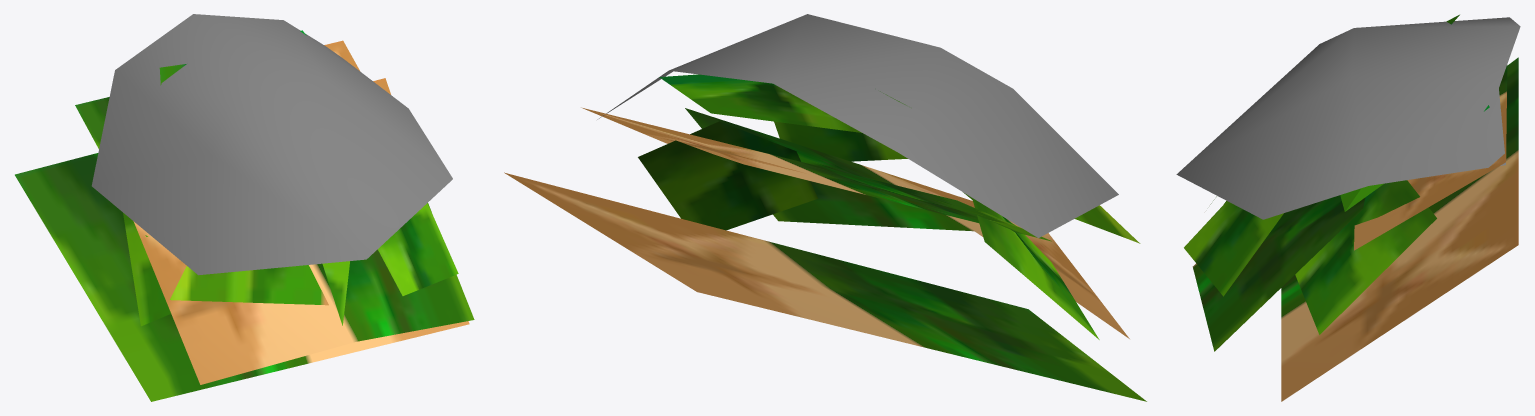
The model's file is fg_bushE_2_s.dae.
The picture shows the model from 3 angles, left to right: view 1: azimuth 30°, elevation 25°; view 2: azimuth 150°, elevation 25°; view 3: azimuth 270°, elevation 25°; orthographic projection. The views are drawn at different scales.
Visible parts, largest first — view 1: fg_bushE_2_s; view 2: fg_bushE_2_s; view 3: fg_bushE_2_s.
Part boxes in pixels (x1,y1,x2,y2): fg_bushE_2_s: (15, 14, 474, 401); fg_bushE_2_s: (504, 14, 1146, 401); fg_bushE_2_s: (1176, 14, 1520, 401).
Size of the model in its own units: 50.84 by 35.23 by 38.03.
1 material, 1 textured.
